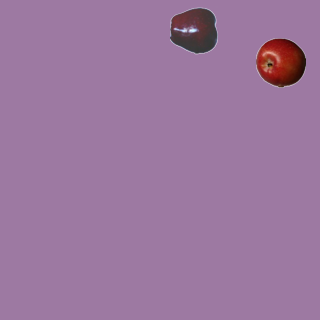Apple Braeburn: (255, 37, 305, 87)
Apple Red Delicious: (169, 5, 219, 55)
